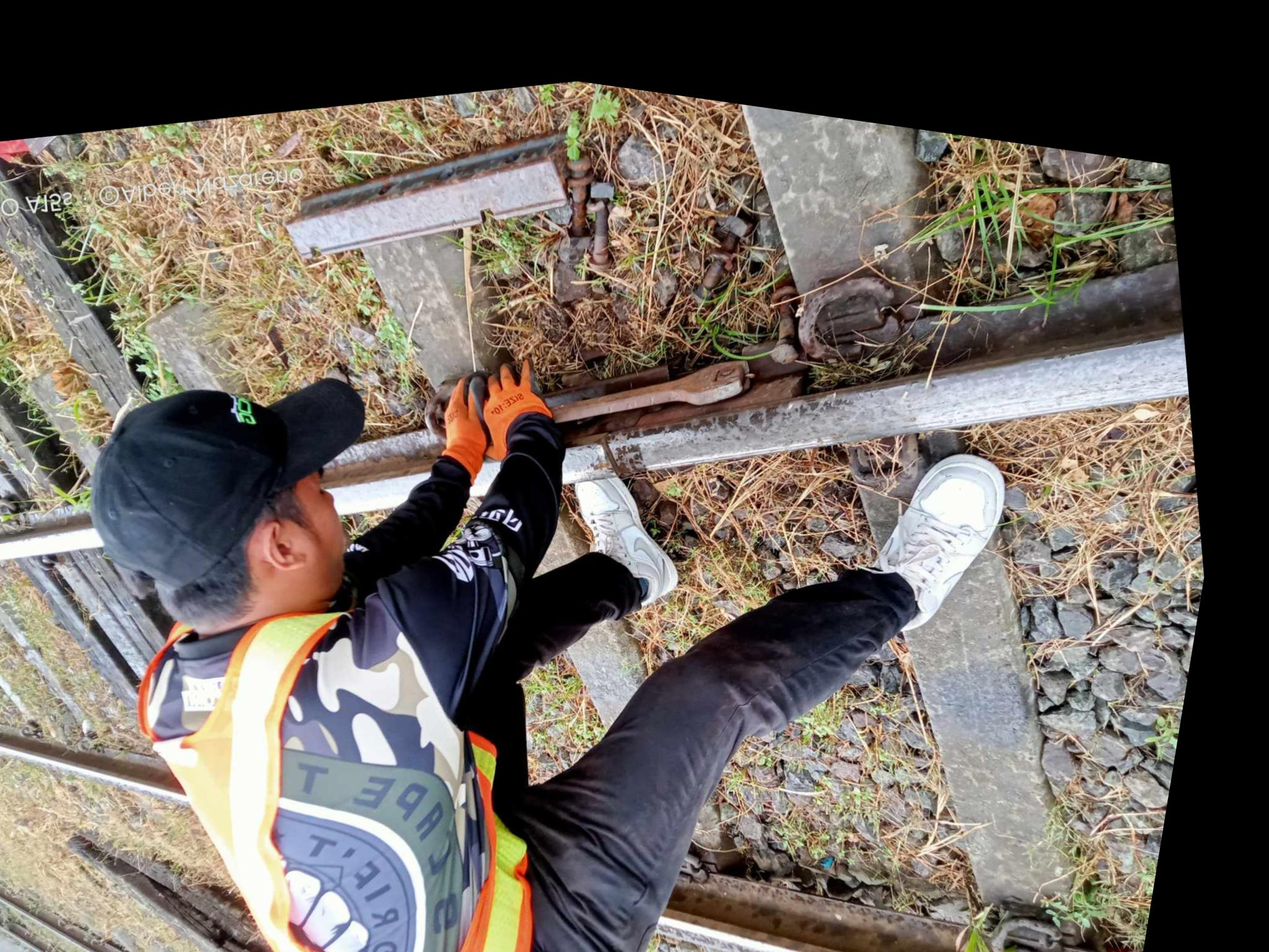person: (568, 378, 684, 488)
